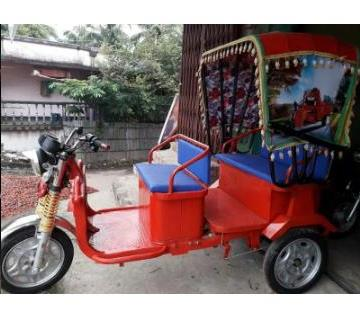Rickshaw: (3, 43, 358, 284)
